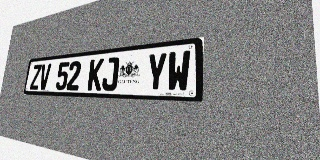2: (66, 60, 82, 90)
5: (55, 62, 70, 90)
J: (101, 57, 120, 91)
K: (87, 58, 104, 91)
V: (38, 63, 51, 90)
W: (166, 50, 191, 92)
Y: (145, 52, 168, 92)
Z: (30, 64, 42, 90)
